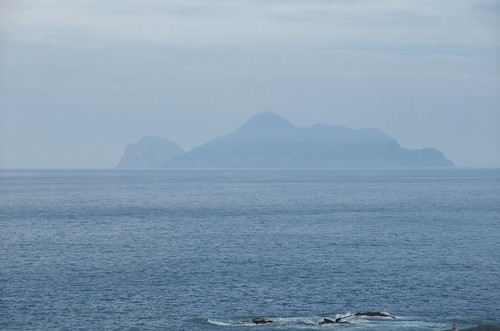turtleIslandLeft: (115, 109, 458, 172)
